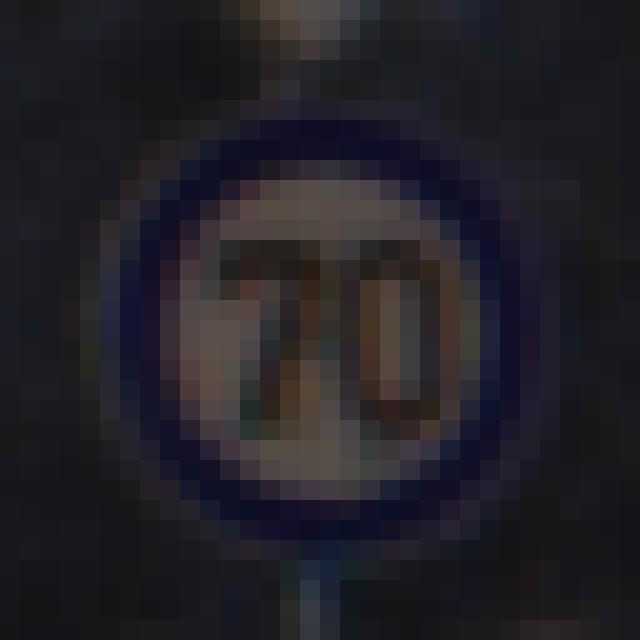SPEED LIMIT 70: (99, 93, 550, 523)
